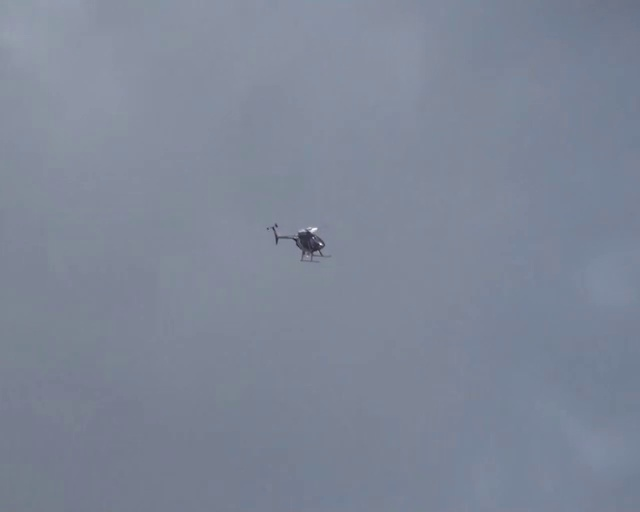HELICOPTER: (266, 222, 328, 262)
